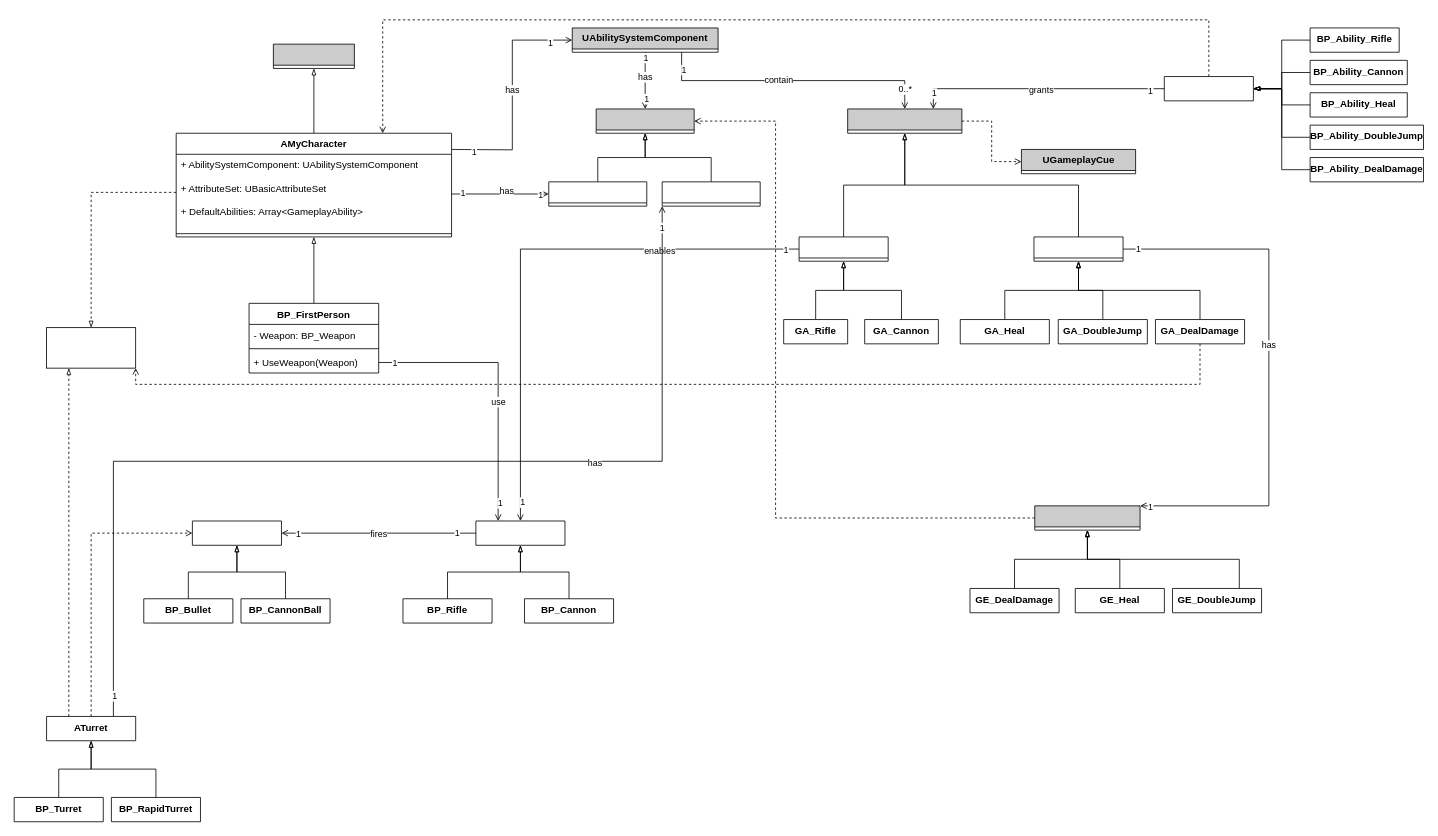
This 1438x836 diagram has some shape labels left out. The centre of each missing label's shape, as x and y in pixels:
AAbilityPickup: the point at 1208,88
ACharacter: the point at 313,55
AProjectile: the point at 236,532
BP_Weapon: the point at 520,532
GA_Effective: the point at 1078,248
GA_Weapon: the point at 843,248
UAttributeSet: the point at 644,120
UBasicAttributeSet: the point at 597,193
UGameplayAbility: the point at 904,120
UGameplayEffect: the point at 1087,517
UTurretAttributeSet: the point at 710,193
«interface» Destructible: the point at 91,347
